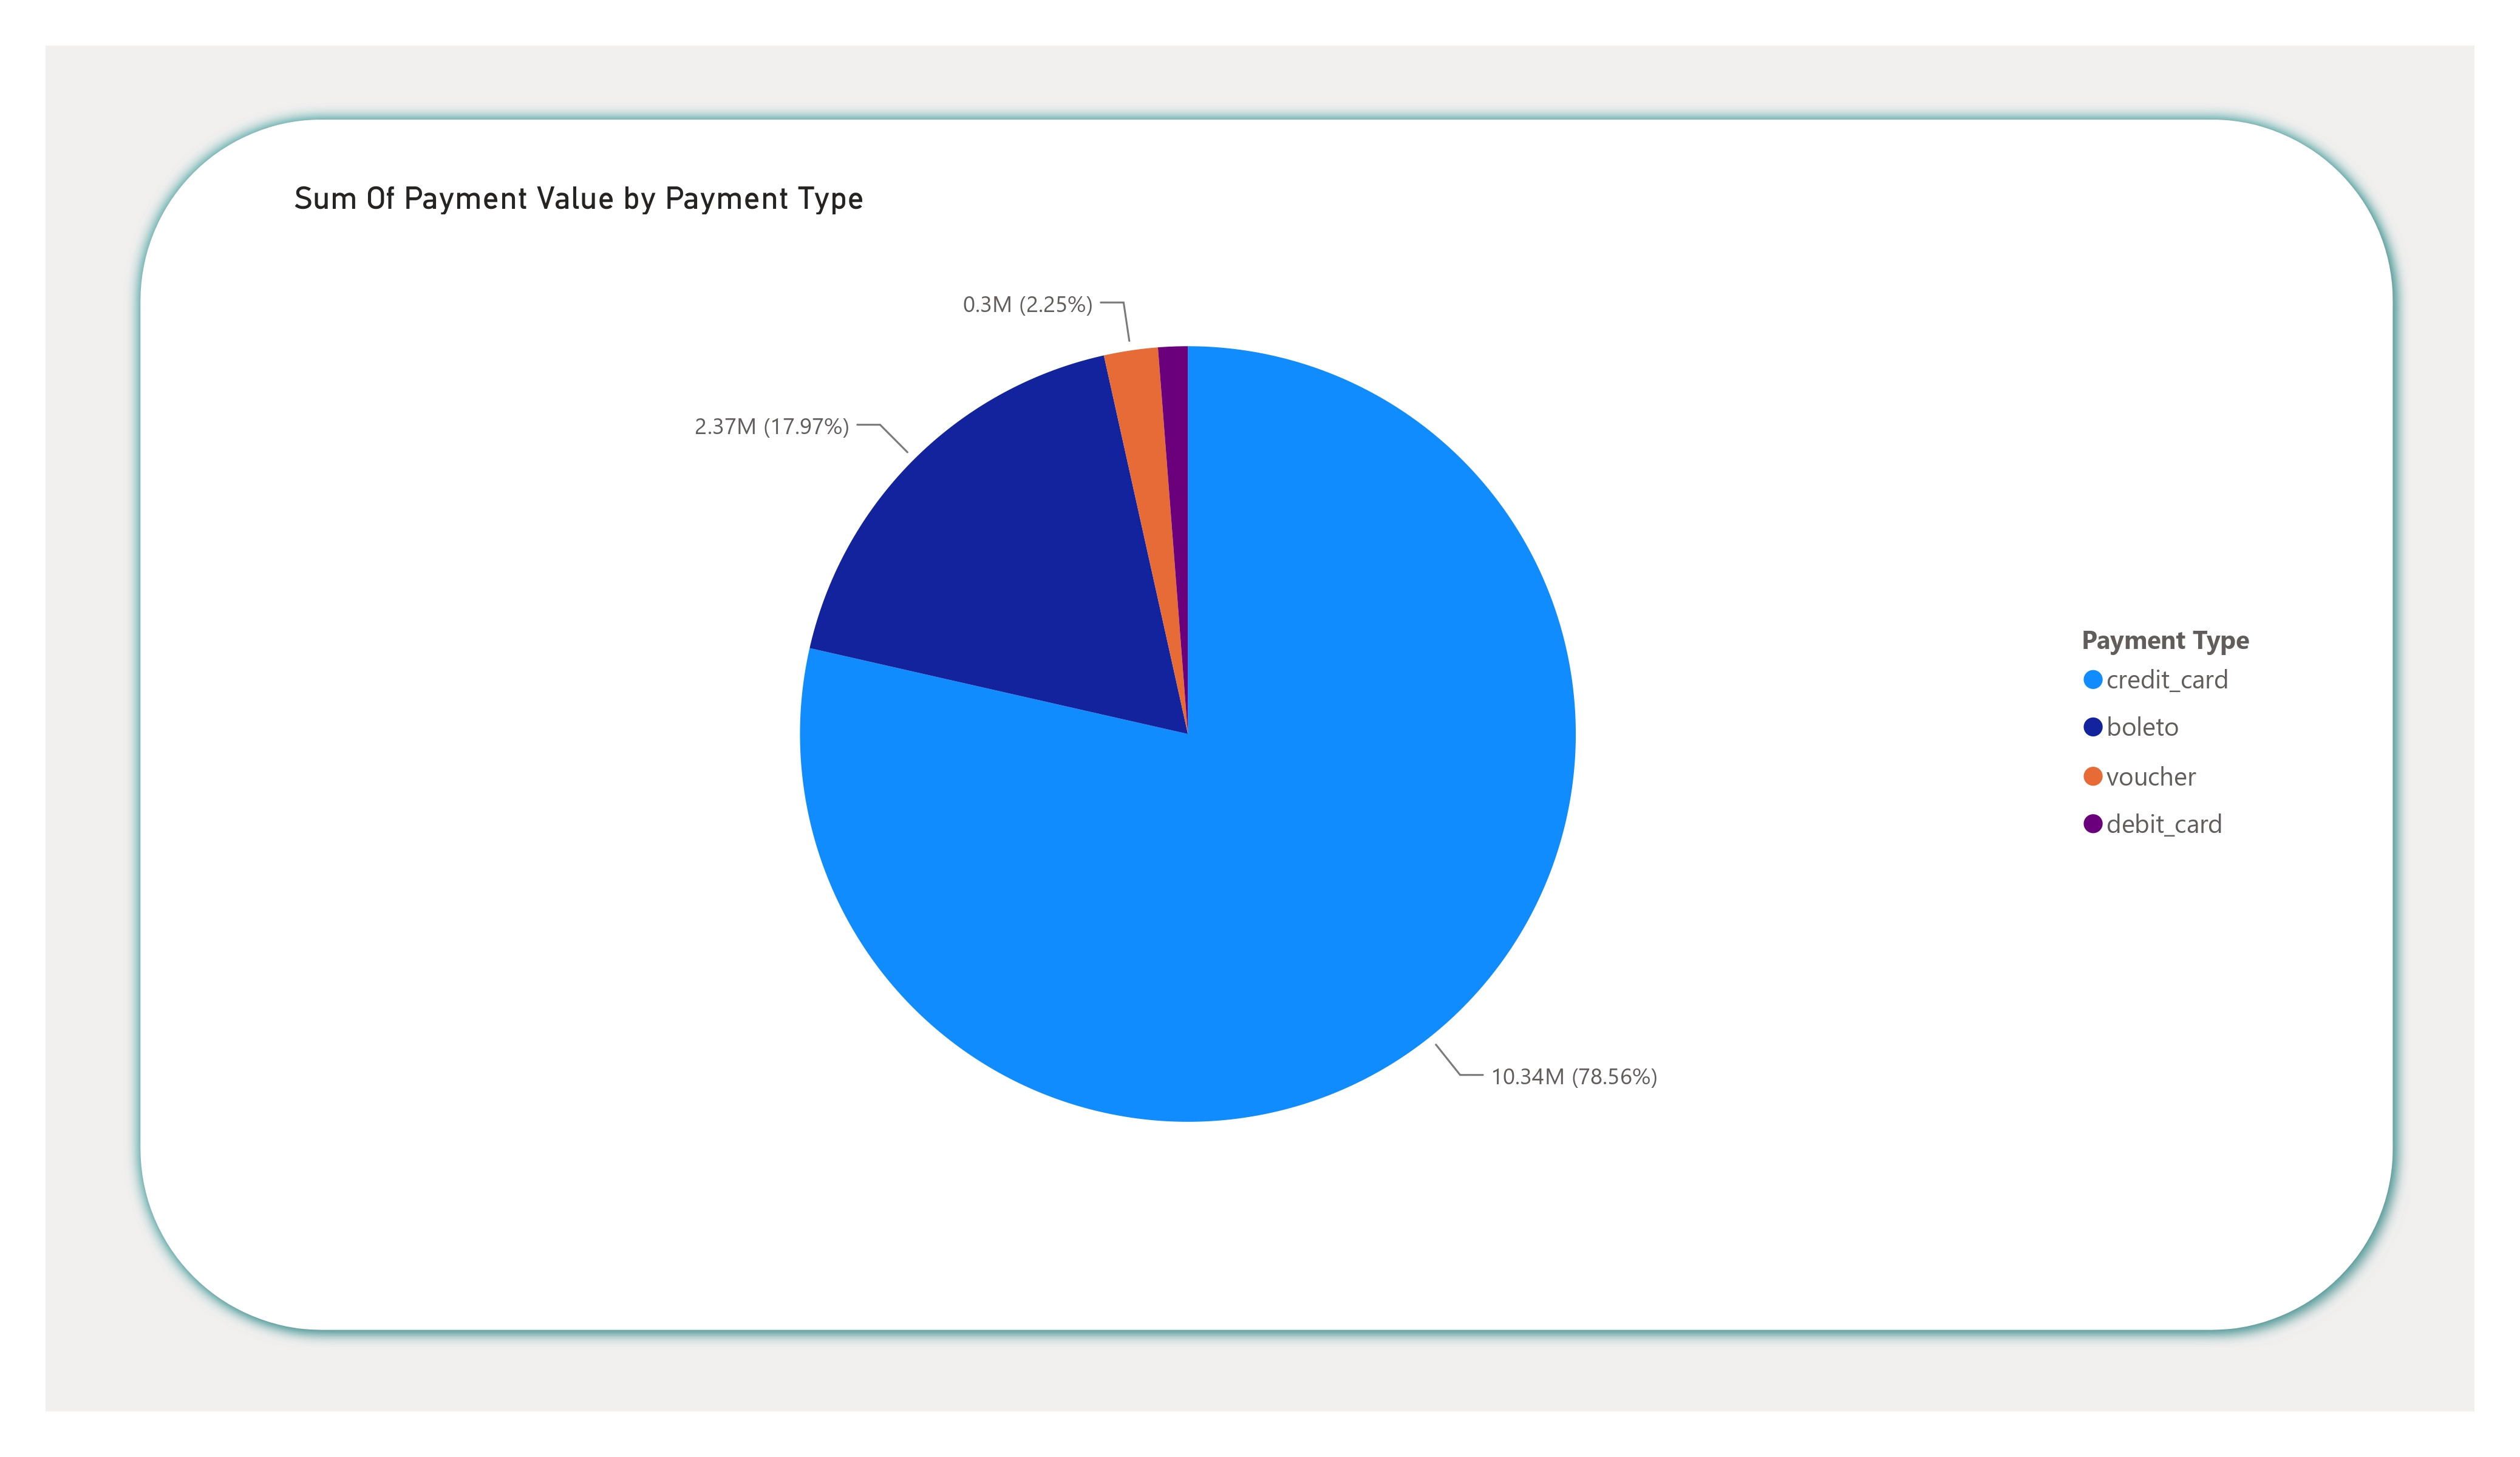

The page's visual inventory and layout, read from the dashboard file:
{"tool":"powerbi","page":{"name":"BR-10","canvas":[1280,720],"ordinal":9},"visuals":[{"type":"shape","box":[40.7,30,1205.2,655.6],"z":0},{"type":"pieChart","fields":{"Category":["orders.payment_type"],"Y":["Sum(orders.payment_value)"]},"box":[126.4,69.6,1056.3,567.8],"z":1000}]}

Visuals, with their boxes on the page's 1280x720 design canvas (x1, y1, x2, y2). These are canvas units, not pixel positions in the 2520x1457 screenshot, which may show the page scaled, cropped or inside an application window:
shape: <bbox>41, 30, 1246, 686</bbox>
pieChart - orders.payment_type x Sum(orders.payment_value): <bbox>126, 70, 1183, 637</bbox>
